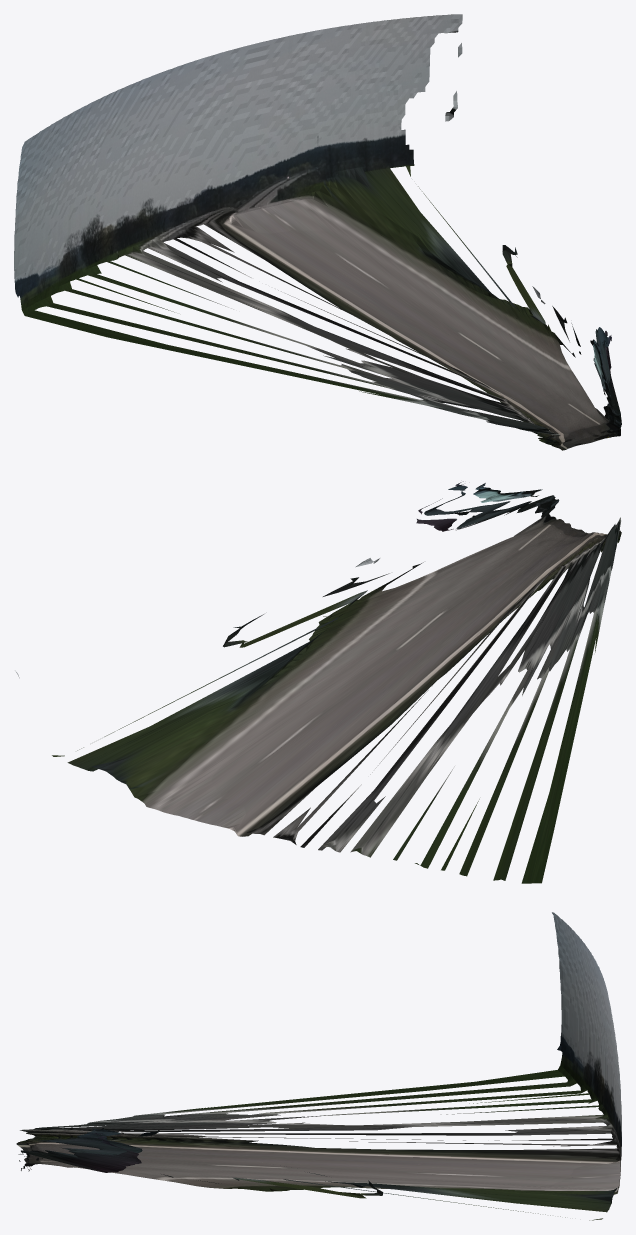
3 views of the same model, one above another, from view 1: azimuth 30°, elevation 25°; view 2: azimuth 150°, elevation 25°; view 3: azimuth 270°, elevation 25° (orthographic). The views are drawn at different scales.
Visible parts, largest first — view 1: defaultobject; view 2: defaultobject; view 3: defaultobject.
Boxes of the visible parts, x1,y1,x2,y2 form: defaultobject: (14,14,621,450); defaultobject: (15,481,621,883); defaultobject: (16,912,621,1220).
Size of the model in its own units: 34.94 by 13.64 by 44.98.
Materials: 1 (1 with a texture image).
